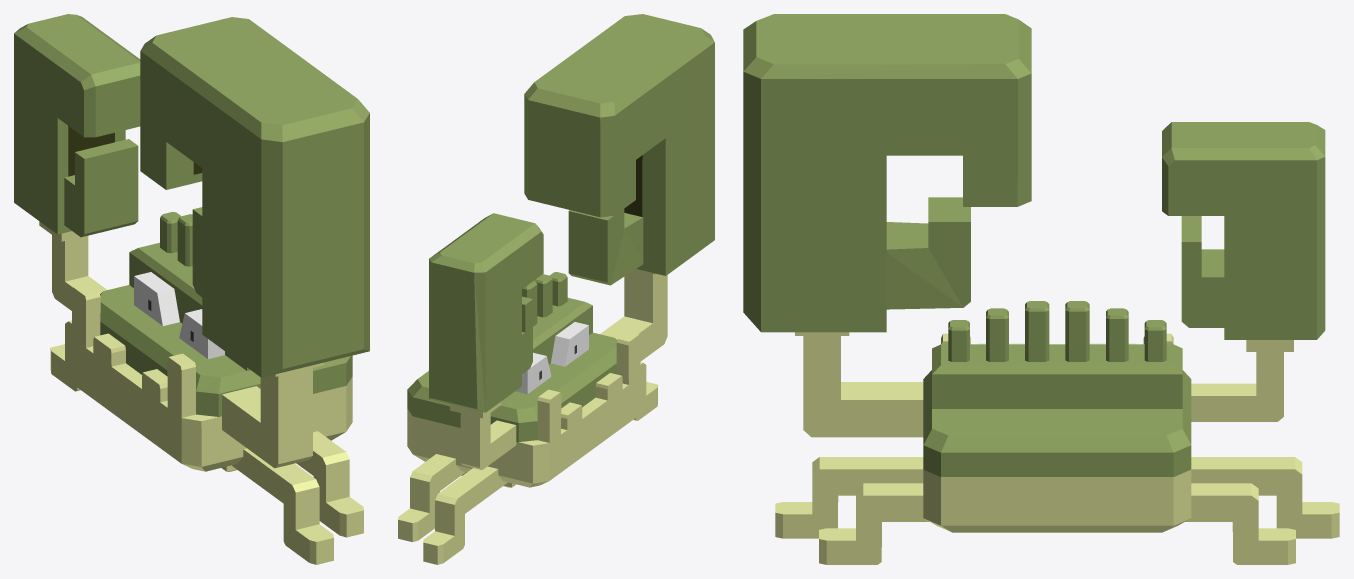
The model's file is model_shiny.obj.
3 renders of one model, left to right at view 1: azimuth 30°, elevation 25°; view 2: azimuth 150°, elevation 25°; view 3: azimuth 270°, elevation 25°, orthographic. The views are drawn at different scales.
Parts seen in each view (by area): view 1: 0099_kingler_shiny; view 2: 0099_kingler_shiny; view 3: 0099_kingler_shiny.
Boxes of the visible parts, left/top/right/bottom form: 0099_kingler_shiny: left=14, top=14, right=369, bottom=564; 0099_kingler_shiny: left=398, top=14, right=714, bottom=564; 0099_kingler_shiny: left=743, top=14, right=1339, bottom=564.
Size of the model in its own units: 1.2 by 2.98 by 3.32.
Materials: 1 (1 with a texture image).
